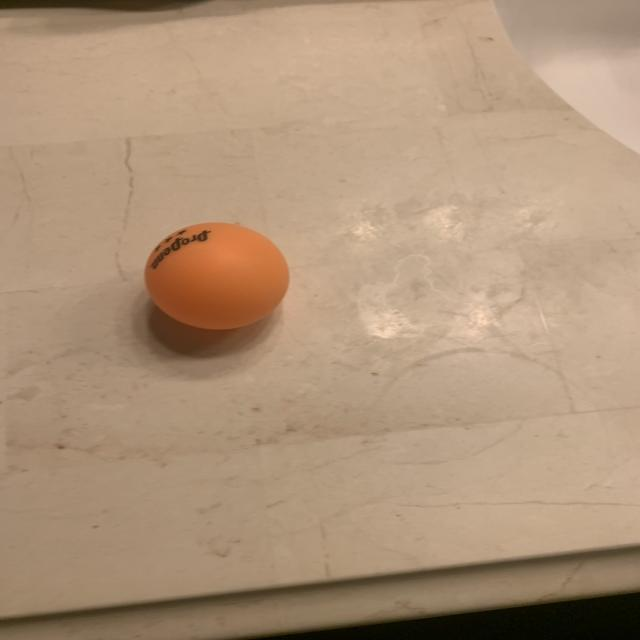ping-pong-ball: (136, 212, 300, 340)
